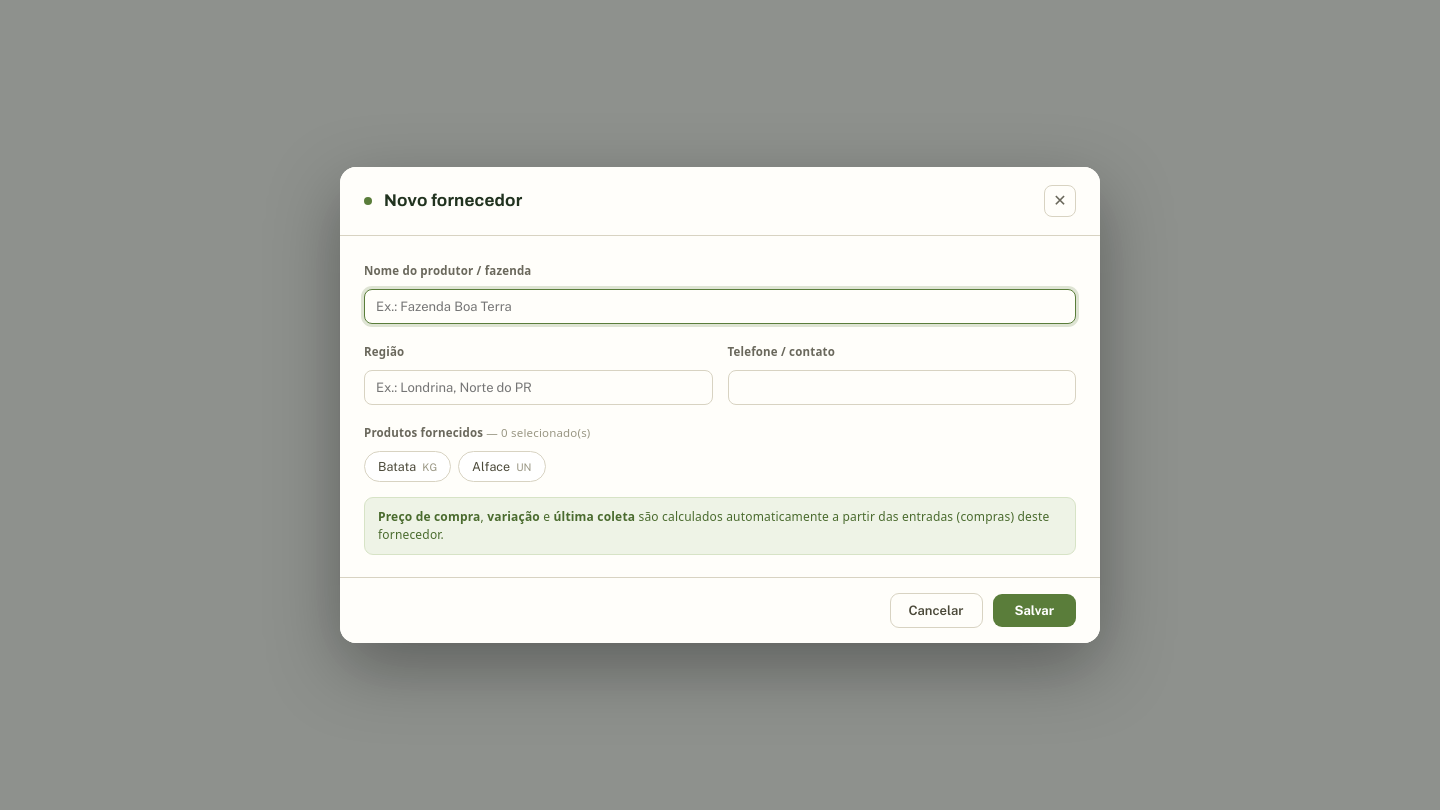
Test: ModalFornecedor — 409 (nome duplicado) › mostra o erro no campo nome, nao como erro generico
Type "Fazenda Repetida" into the field labelled "Nome do produtor / fazenda" at coordinates (720, 306), box [364, 289, 1076, 324]
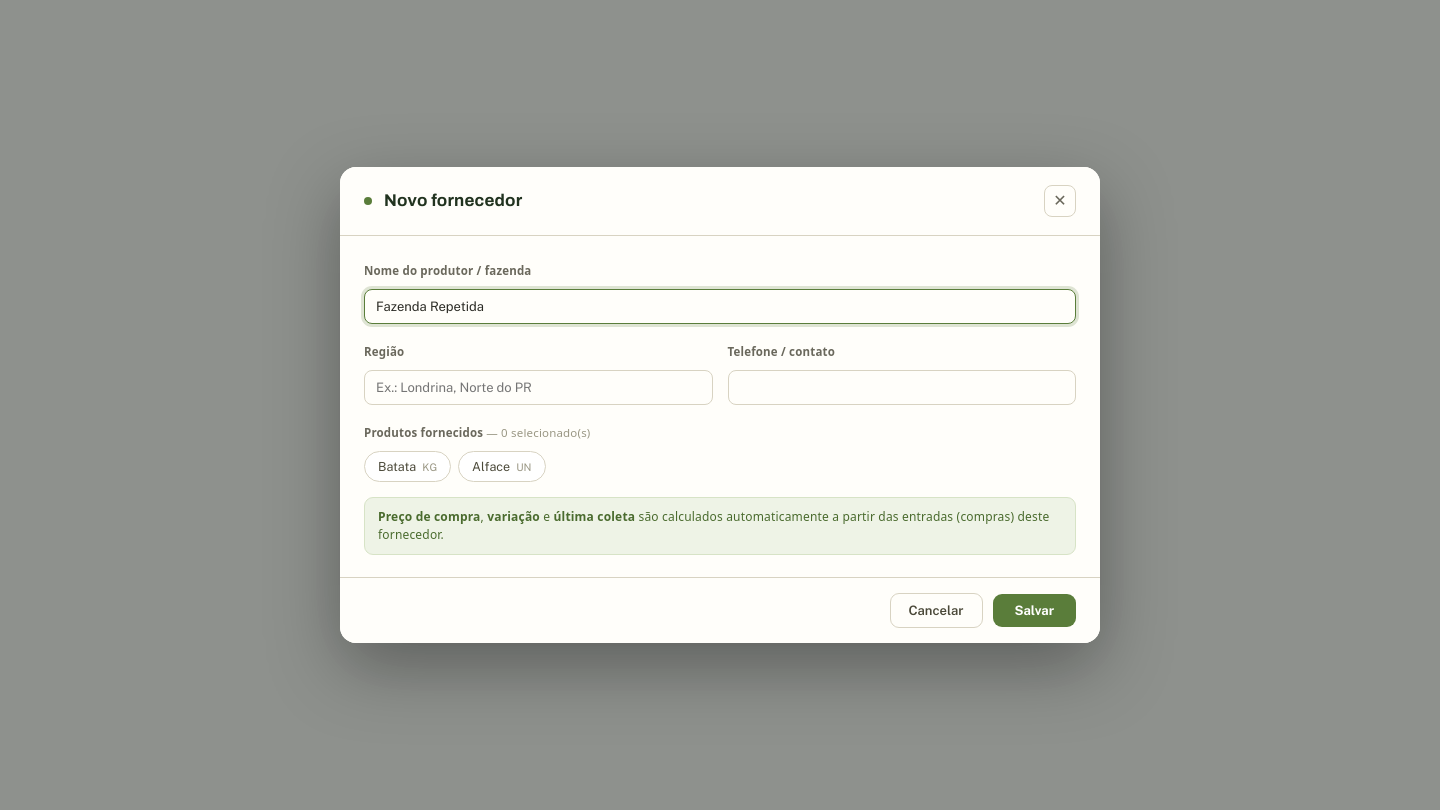
Click the button "Salvar" at coordinates (1034, 611), box [992, 594, 1076, 627]
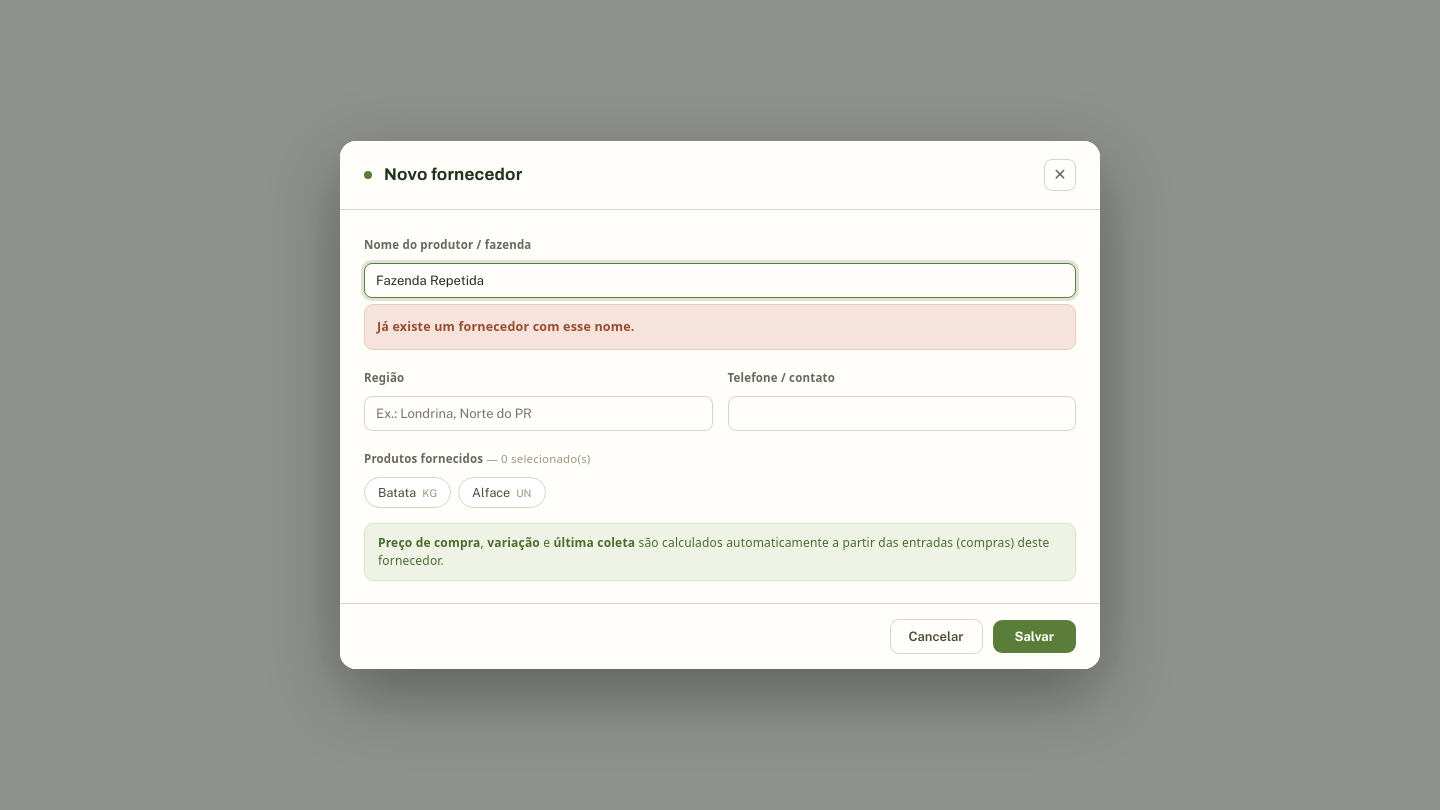
expect the message reads "Já existe um fornecedor com esse nome.": met, box [377, 318, 634, 335]
expect the number of messages is 1: met, box [364, 304, 1076, 350]
